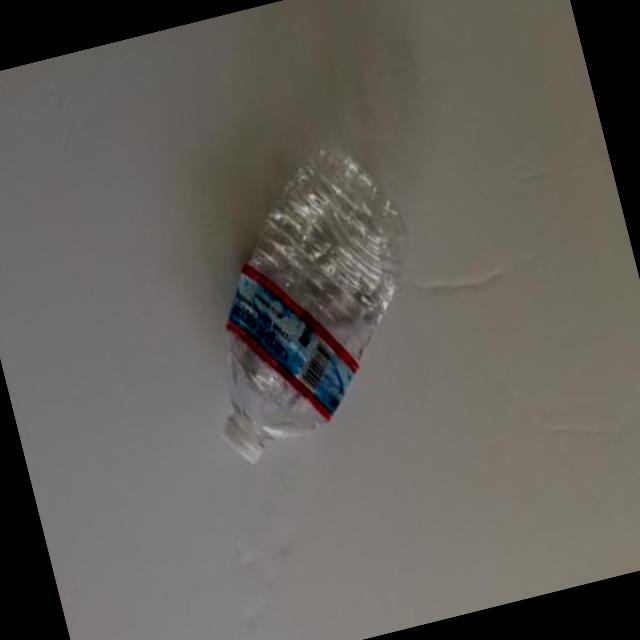Recycle: (160, 131, 456, 472)
